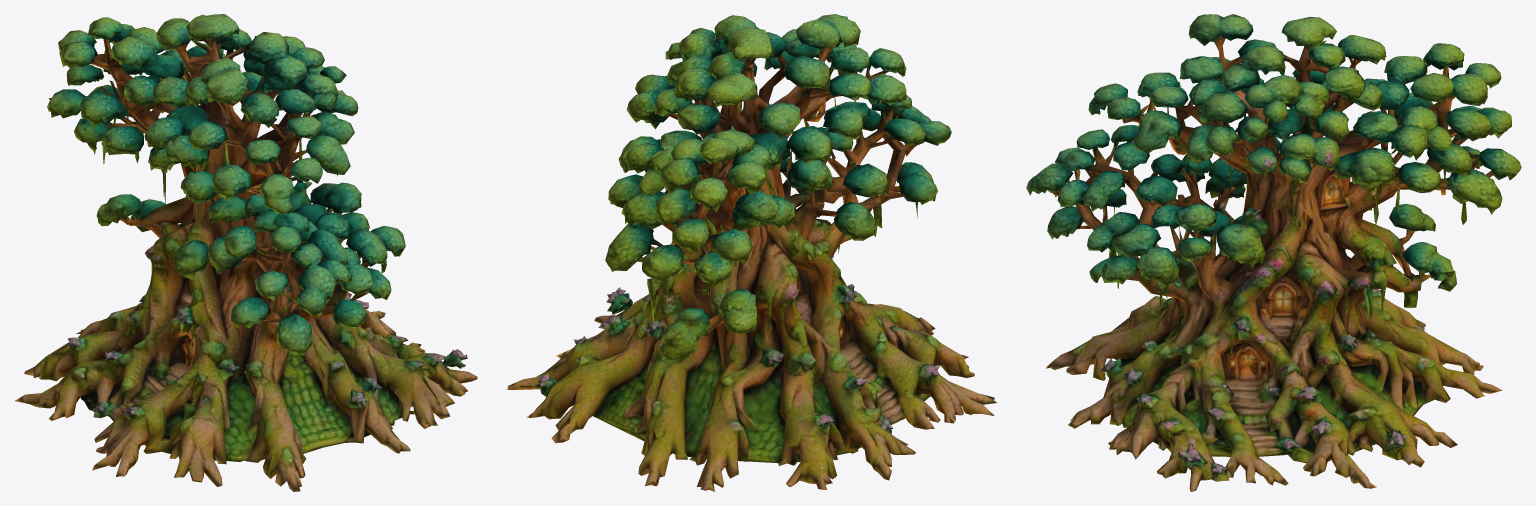
Rendered from tree-house-world-web.glb.
3 renders of one model, left to right at view 1: azimuth 30°, elevation 25°; view 2: azimuth 150°, elevation 25°; view 3: azimuth 270°, elevation 25°, orthographic. The views are drawn at different scales.
Parts seen in each view (by area): view 1: tree-house-world-part-0; view 2: tree-house-world-part-0; view 3: tree-house-world-part-0.
Boxes of the visible parts, x1=… form: tree-house-world-part-0: x1=15, y1=14, x2=477, y2=491; tree-house-world-part-0: x1=506, y1=14, x2=997, y2=491; tree-house-world-part-0: x1=1026, y1=14, x2=1521, y2=491.
Size of the model in its own units: 1.07 by 1 by 1.18.
1 material, 1 textured.
